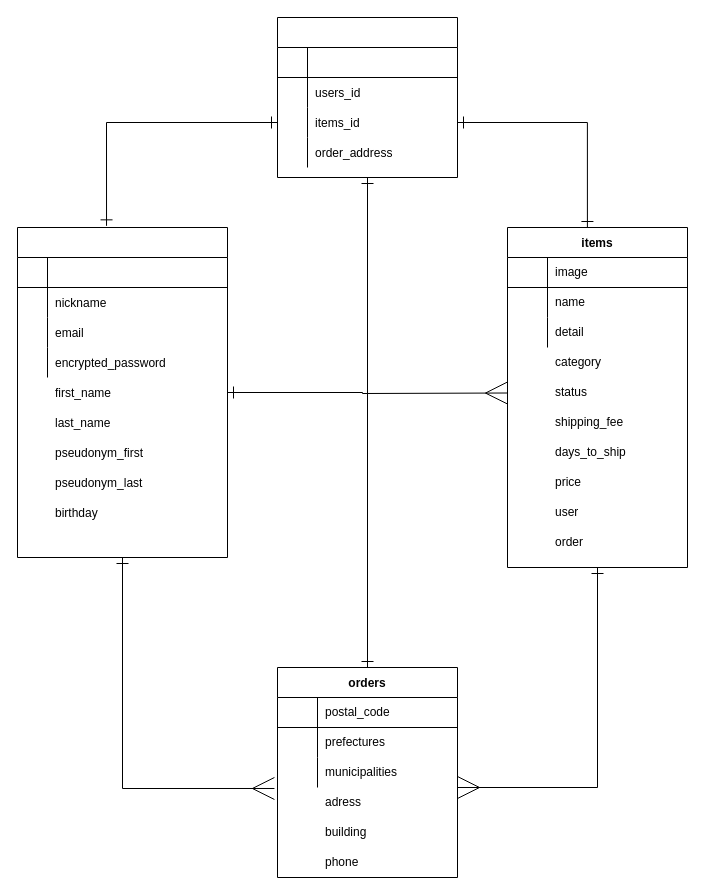
This 705x895 diagram has some shape labels left out. Here are the shapes that lost their labels. From the top down, the box of each, then its label:
(276, 16, 458, 178): orders_detail
(16, 226, 228, 558): users
